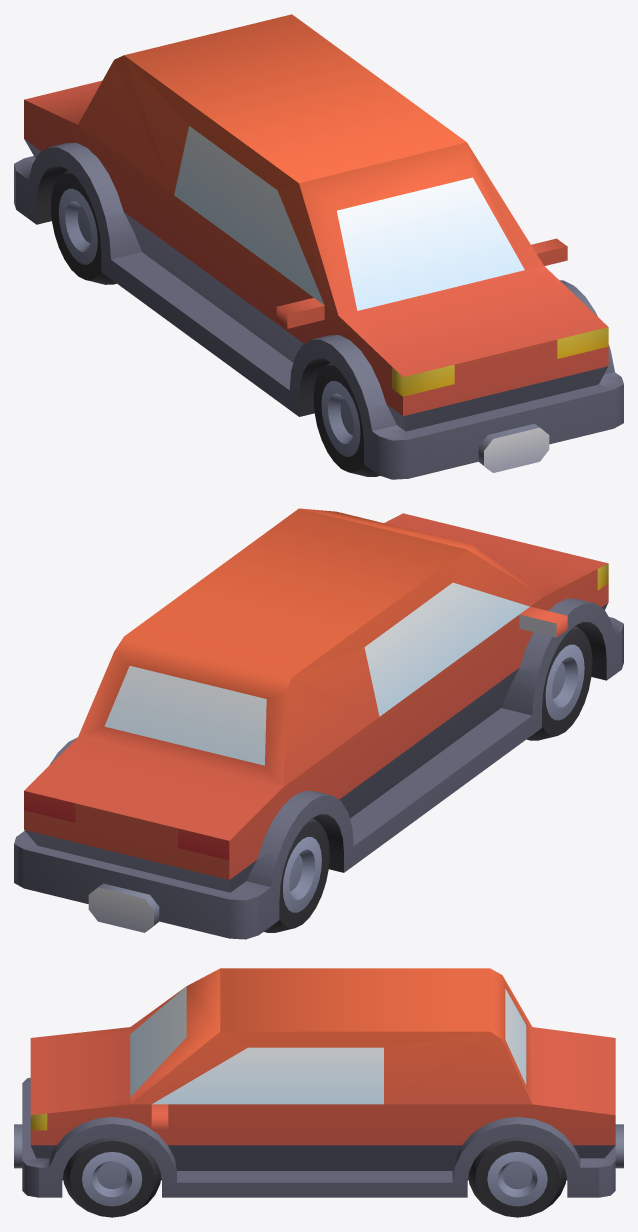
The model's file is sedan.glb.
3 renders of one model, top to bottom at view 1: azimuth 30°, elevation 25°; view 2: azimuth 150°, elevation 25°; view 3: azimuth 270°, elevation 25°, orthographic. The views are drawn at different scales.
Visible parts, largest first — view 1: metric-sedan; view 2: metric-sedan; view 3: metric-sedan.
Part boxes in pixels (left/top/right/bottom): metric-sedan: left=14, top=14, right=623, bottom=479; metric-sedan: left=14, top=508, right=623, bottom=939; metric-sedan: left=14, top=968, right=623, bottom=1217.
Bounding box in the file's own units: 1.8 × 1.45 × 4.4.
1 material, 1 textured.
